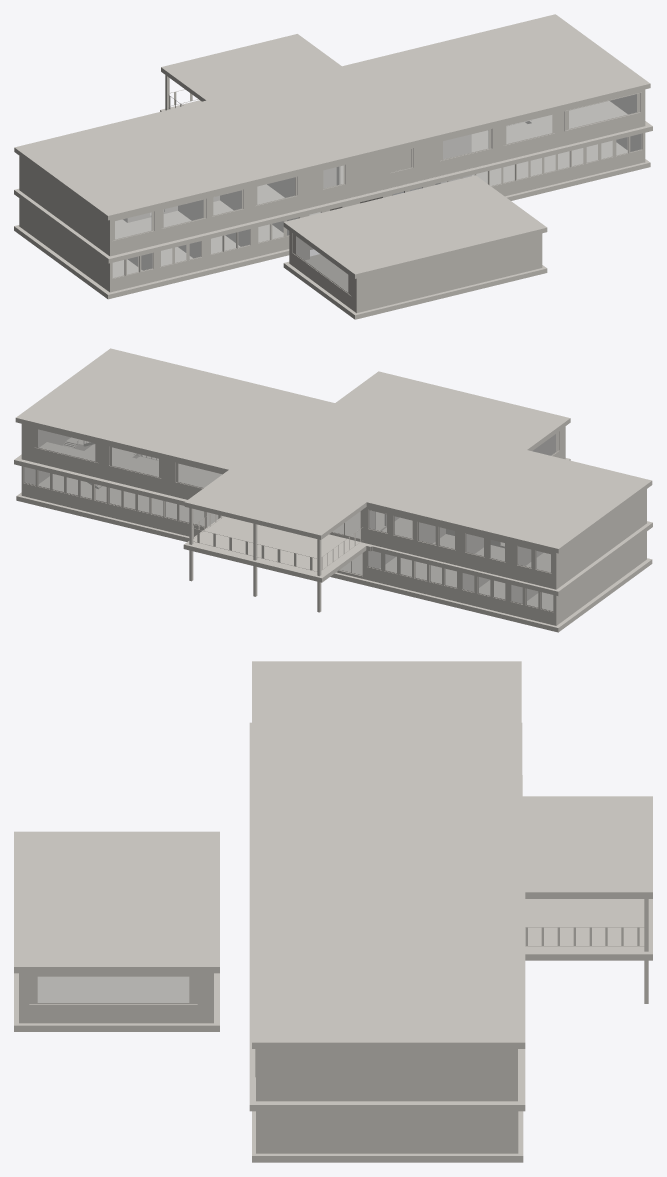
File: washroom_gents_walk.glb
3 views of the same model, one above another, from view 1: azimuth 30°, elevation 25°; view 2: azimuth 150°, elevation 25°; view 3: azimuth 270°, elevation 25° (orthographic). The views are drawn at different scales.
Visible parts, largest first — view 1: BEYOND_L2_SLAB, BEYOND_L0_WALL, BEYOND_L1_WALL, BEYOND_L0_SLAB, BEYOND_L1_SLAB, BEYOND_L1_GLASS, BEYOND_L0_GLASS, UPPER_in_zone, BEYOND_L1_FRAME, BEYOND_L0_FRAME, BEYOND_L1_OTHER, BEYOND_L0_OTHER; view 2: BEYOND_L2_SLAB, BEYOND_L1_WALL, BEYOND_L1_SLAB, BEYOND_L0_WALL, BEYOND_L0_SLAB, BEYOND_L1_GLASS, BEYOND_L0_GLASS, BEYOND_L1_FRAME, BEYOND_L0_FRAME, UPPER_in_zone, BEYOND_L1_OTHER, BEYOND_L1_STAIR (+3 smaller); view 3: BEYOND_L2_SLAB, BEYOND_L0_WALL, BEYOND_L1_WALL, BEYOND_L1_SLAB, BEYOND_L0_SLAB, BEYOND_L0_GLASS, UPPER_in_zone, BEYOND_L0_FRAME.
Boxes of the visible parts, x1,y1,x2,y2 form: BEYOND_L2_SLAB: [14, 14, 650, 278]; BEYOND_L0_WALL: [19, 133, 645, 313]; BEYOND_L1_WALL: [19, 89, 645, 256]; BEYOND_L0_SLAB: [14, 122, 650, 319]; BEYOND_L1_SLAB: [14, 100, 652, 263]; BEYOND_L1_GLASS: [115, 94, 636, 238]; BEYOND_L0_GLASS: [113, 134, 641, 291]; UPPER_in_zone: [359, 114, 432, 188]; BEYOND_L1_FRAME: [113, 93, 640, 240]; BEYOND_L0_FRAME: [112, 134, 642, 295]; BEYOND_L1_OTHER: [112, 89, 641, 240]; BEYOND_L0_OTHER: [124, 133, 642, 295]; BEYOND_L2_SLAB: [15, 348, 652, 553]; BEYOND_L1_WALL: [21, 424, 646, 589]; BEYOND_L1_SLAB: [14, 442, 652, 596]; BEYOND_L0_WALL: [21, 426, 646, 625]; BEYOND_L0_SLAB: [16, 444, 652, 632]; BEYOND_L1_GLASS: [38, 429, 550, 572]; BEYOND_L0_GLASS: [24, 434, 555, 610]; BEYOND_L1_FRAME: [34, 428, 551, 573]; BEYOND_L0_FRAME: [23, 431, 558, 611]; UPPER_in_zone: [297, 402, 370, 433]; BEYOND_L1_OTHER: [34, 428, 551, 573]; BEYOND_L1_STAIR: [136, 454, 500, 570]; BEYOND_L2_SLAB: [14, 661, 652, 1048]; BEYOND_L0_WALL: [19, 973, 518, 1153]; BEYOND_L1_WALL: [256, 1049, 517, 1101]; BEYOND_L1_SLAB: [249, 722, 652, 1111]; BEYOND_L0_SLAB: [14, 775, 523, 1162]; BEYOND_L0_GLASS: [38, 977, 188, 1002]; UPPER_in_zone: [256, 858, 336, 890]; BEYOND_L0_FRAME: [29, 976, 197, 1003].
Bounding box in the file's own units: 38.22 × 5.6 × 27.
Materials: 11 (8 with a texture image).
